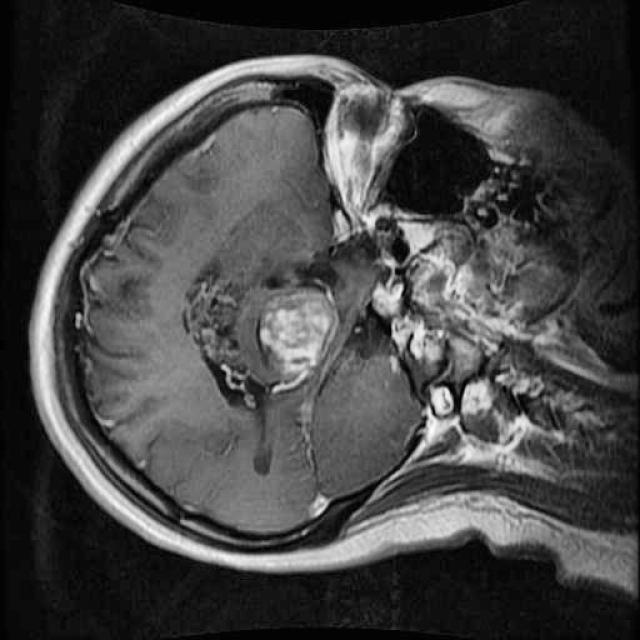Non-Tumor: (171, 248, 360, 422)
